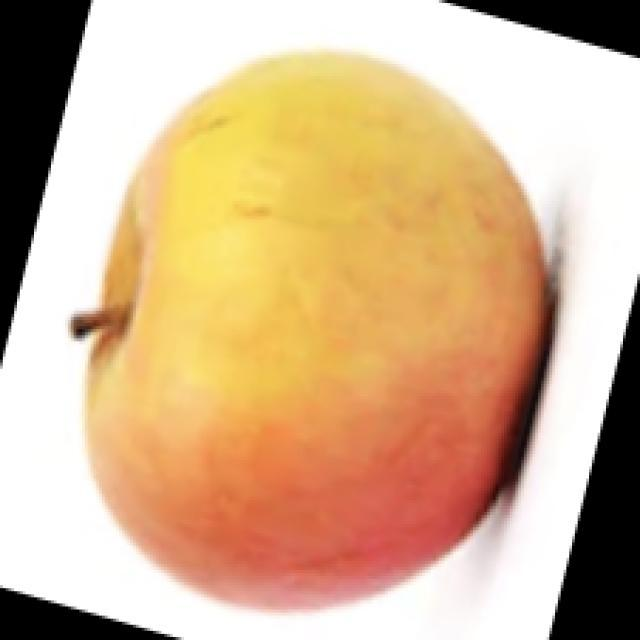Fresh Apple: (83, 66, 540, 596)
